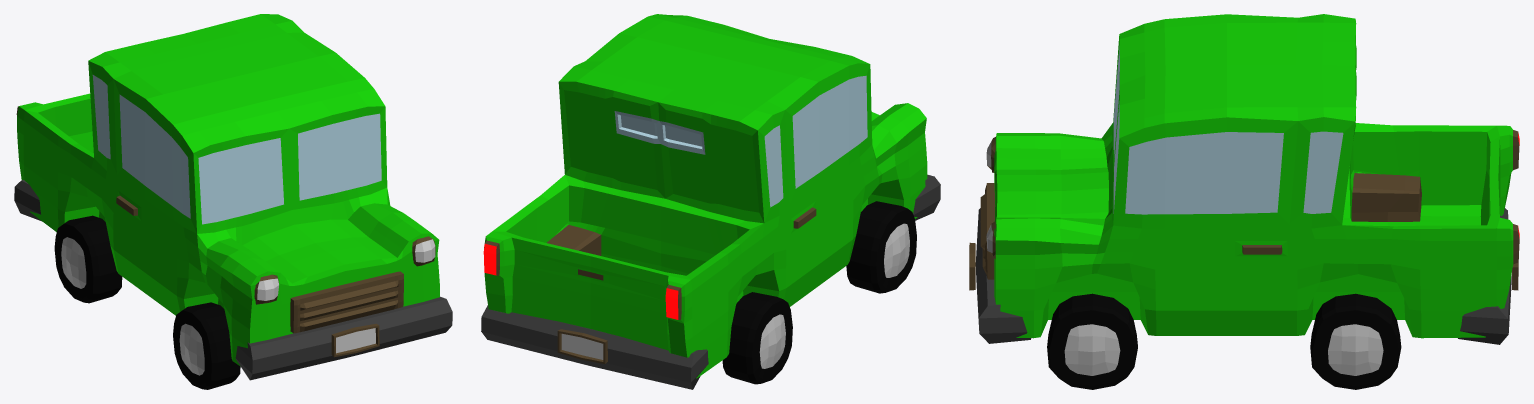
File: test-car.fbx
3 renders of one model, left to right at view 1: azimuth 30°, elevation 25°; view 2: azimuth 150°, elevation 25°; view 3: azimuth 270°, elevation 25°, orthographic. The views are drawn at different scales.
Visible parts, largest first — view 1: Cube, Cube.004, Cube.002; view 2: Cube, Cube.002, Cube.004; view 3: Cube, Cube.003, Cube.001.
Part boxes in pixels (x1,y1,x2,y2): Cube: (14,14,452,380); Cube.004: (54,215,122,303); Cube.002: (173,302,240,389); Cube: (481,14,940,389); Cube.002: (846,201,916,293); Cube.004: (722,292,792,384); Cube: (969,14,1519,344); Cube.003: (1310,293,1401,389); Cube.001: (1047,293,1137,389).
Bounding box in the file's own units: 2.36 × 4.47 × 2.4.
